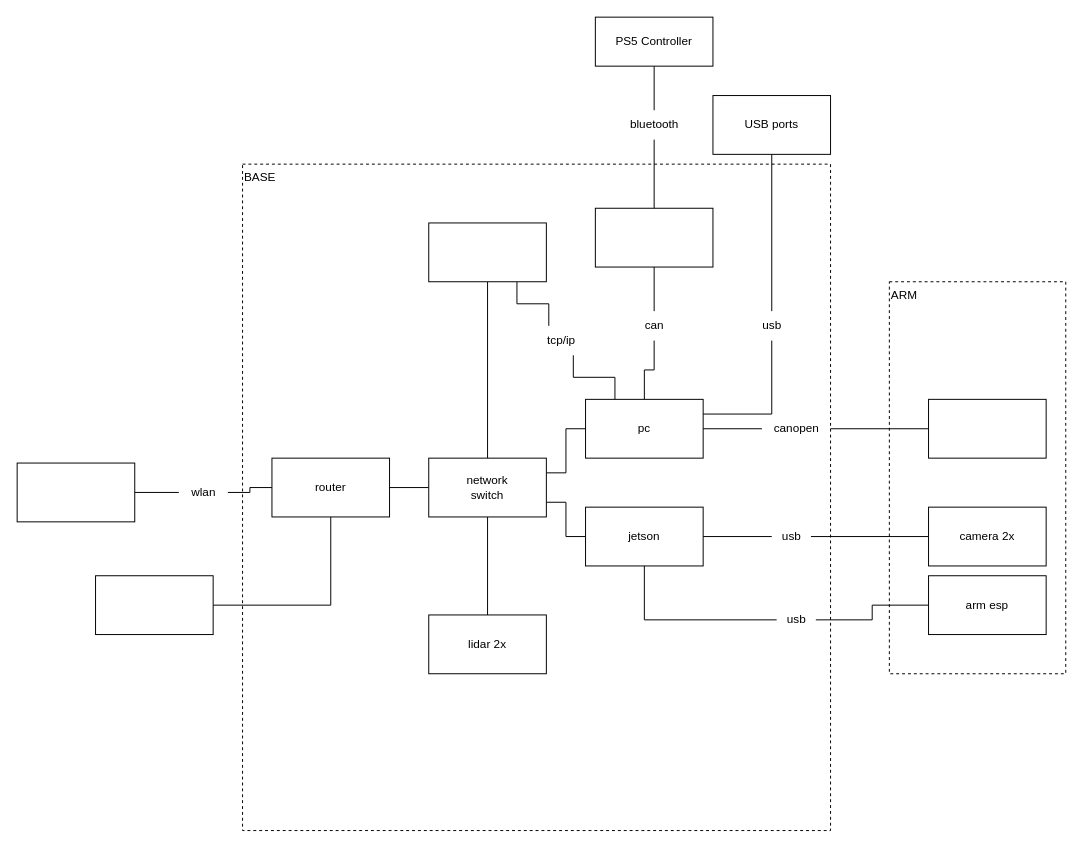
The diagram is 1083 pixels wide and 856 high, and some of its shapes have lost their labels. Each missing label, with the box of its shape:
base esp: (594, 207, 713, 267)
motorcontroller: (928, 398, 1046, 458)
safety plc: (428, 222, 546, 282)
tablet: (16, 462, 135, 522)
WAN port: (95, 575, 213, 635)
